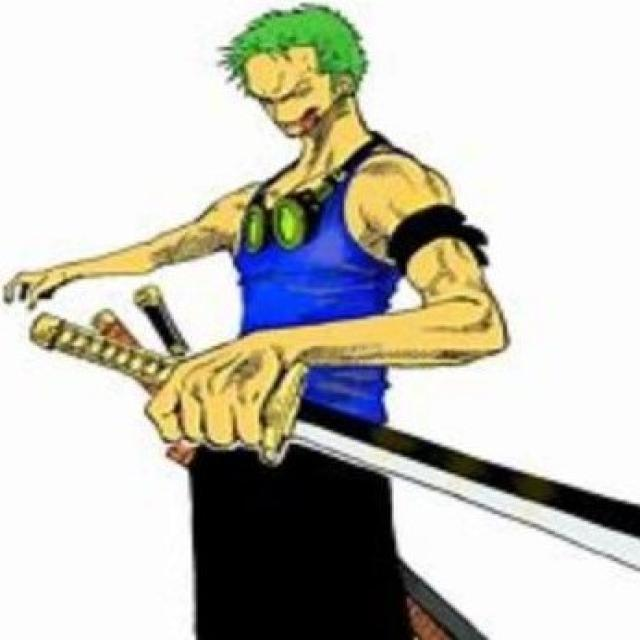Zoro: (13, 5, 507, 640)
